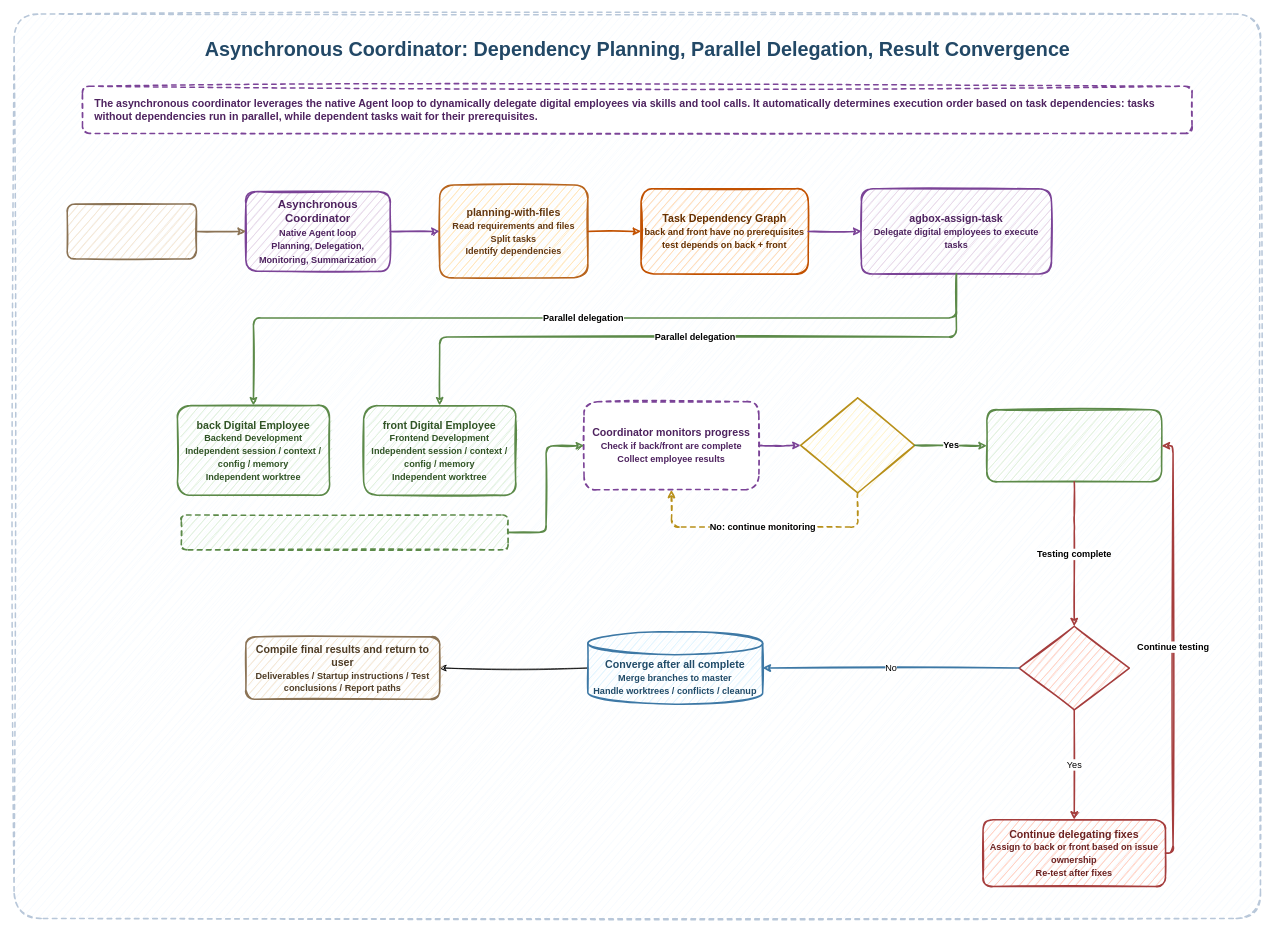
This 1274x932 diagram has some shape labels left out. Each missing label, with the centre of its shape:
Batch 1: Tasks without dependencies start in parallel: point 344,532
Batch 2: Delegate test Functional testing / E2E verification Output test report: point 1074,445
Bugs found in testing?: point 1074,667
Dependencies met? Both back and front done: point 857,445
User submits project task: point 131,231
